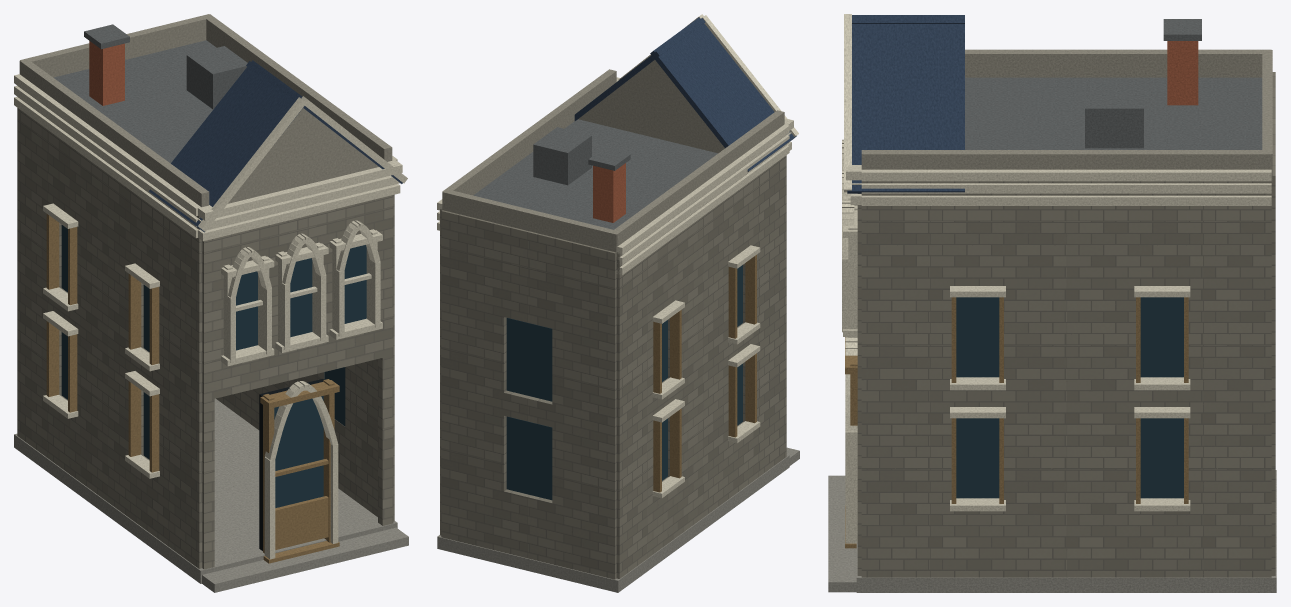
File: CLSTGA19_lod2.glb
3 views of the same model, side by side, from view 1: azimuth 30°, elevation 25°; view 2: azimuth 150°, elevation 25°; view 3: azimuth 270°, elevation 25° (orthographic). The views are drawn at different scales.
Parts seen in each view (by area): view 1: CLSTGA19_LOD2; view 2: CLSTGA19_LOD2; view 3: CLSTGA19_LOD2.
Part boxes in pixels (bbox=[...]): CLSTGA19_LOD2: bbox=[14, 14, 408, 592]; CLSTGA19_LOD2: bbox=[437, 14, 799, 592]; CLSTGA19_LOD2: bbox=[828, 14, 1276, 592].
Bounding box in the file's own units: 4.11 × 8.46 × 6.57.
Materials: 10 (8 with a texture image).
